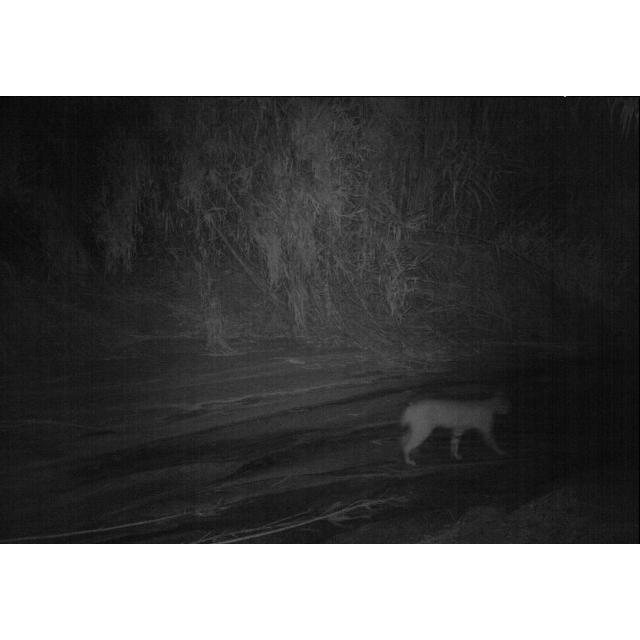animals: (397, 390, 513, 466)
